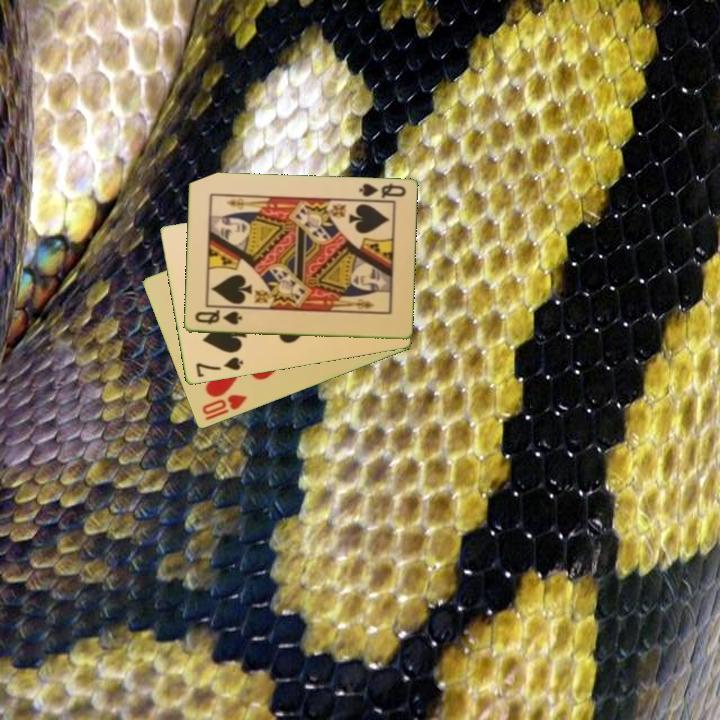10h: (198, 391, 250, 424)
7s: (192, 354, 246, 381)
Qs: (191, 307, 245, 328), (355, 180, 408, 201)
